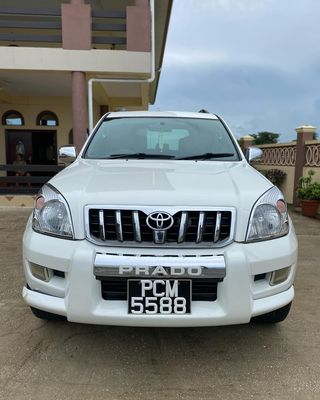License-Plate: (127, 279, 190, 315)
